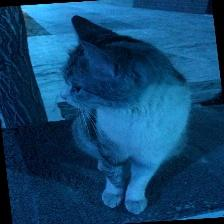kedo: (60, 16, 191, 215)
